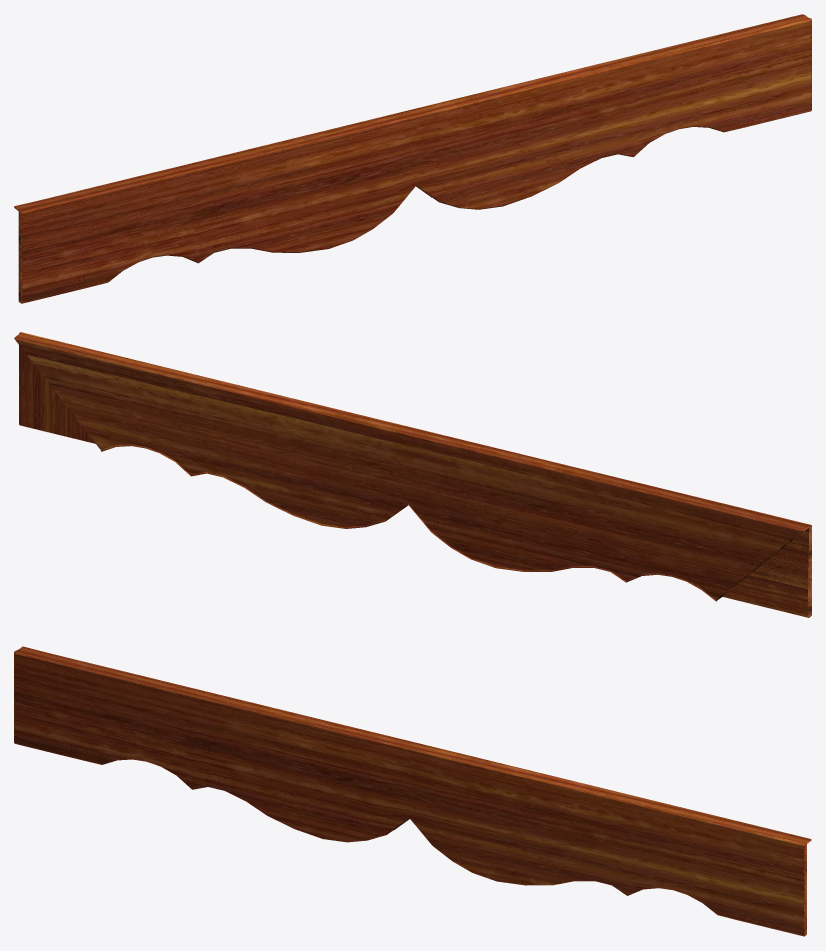
File: GMY_J_humenjuankou.FBX
The picture shows the model from 3 angles, top to bottom: view 1: azimuth 30°, elevation 25°; view 2: azimuth 150°, elevation 25°; view 3: azimuth 330°, elevation 25°; orthographic projection.
Visible parts, largest first — view 1: GMY_J_humenjuankou; view 2: GMY_J_humenjuankou; view 3: GMY_J_humenjuankou.
Part boxes in pixels (x1=…): GMY_J_humenjuankou: x1=14, y1=14, x2=811, y2=303; GMY_J_humenjuankou: x1=14, y1=332, x2=811, y2=617; GMY_J_humenjuankou: x1=14, y1=646, x2=811, y2=936.
Bounding box in the file's own units: 48.71 × 6.65 × 0.9642.
